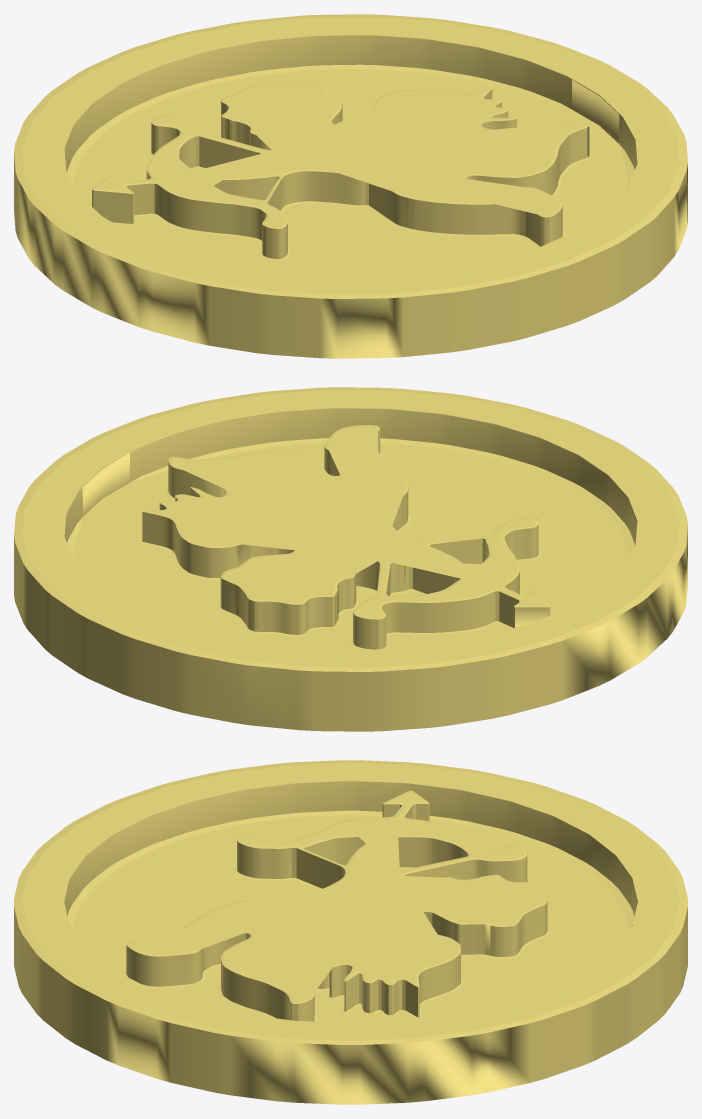
File: Good_Coin.fbx
The picture shows the model from 3 angles, top to bottom: view 1: azimuth 30°, elevation 25°; view 2: azimuth 150°, elevation 25°; view 3: azimuth 270°, elevation 25°; orthographic projection.
Parts seen in each view (by area): view 1: Cilindro; view 2: Cilindro; view 3: Cilindro.
Part boxes in pixels (bbox=[...]): Cilindro: bbox=[14, 14, 687, 358]; Cilindro: bbox=[14, 387, 687, 731]; Cilindro: bbox=[14, 760, 687, 1104].
Bounding box in the file's own units: 199 × 20 × 199.
